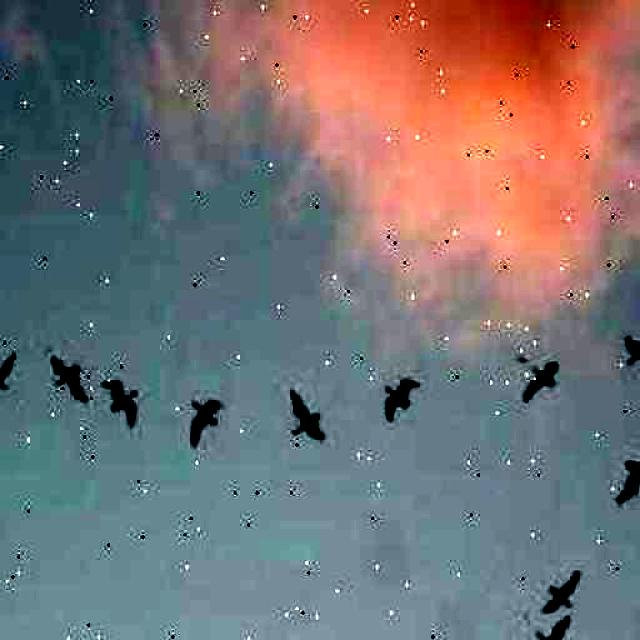airplane: (181, 396, 228, 452), (285, 384, 329, 440), (540, 564, 584, 620), (99, 375, 141, 429), (45, 351, 89, 401), (379, 372, 421, 422), (610, 448, 640, 508), (519, 361, 558, 405), (524, 612, 570, 640), (0, 348, 20, 404), (620, 332, 640, 382)
